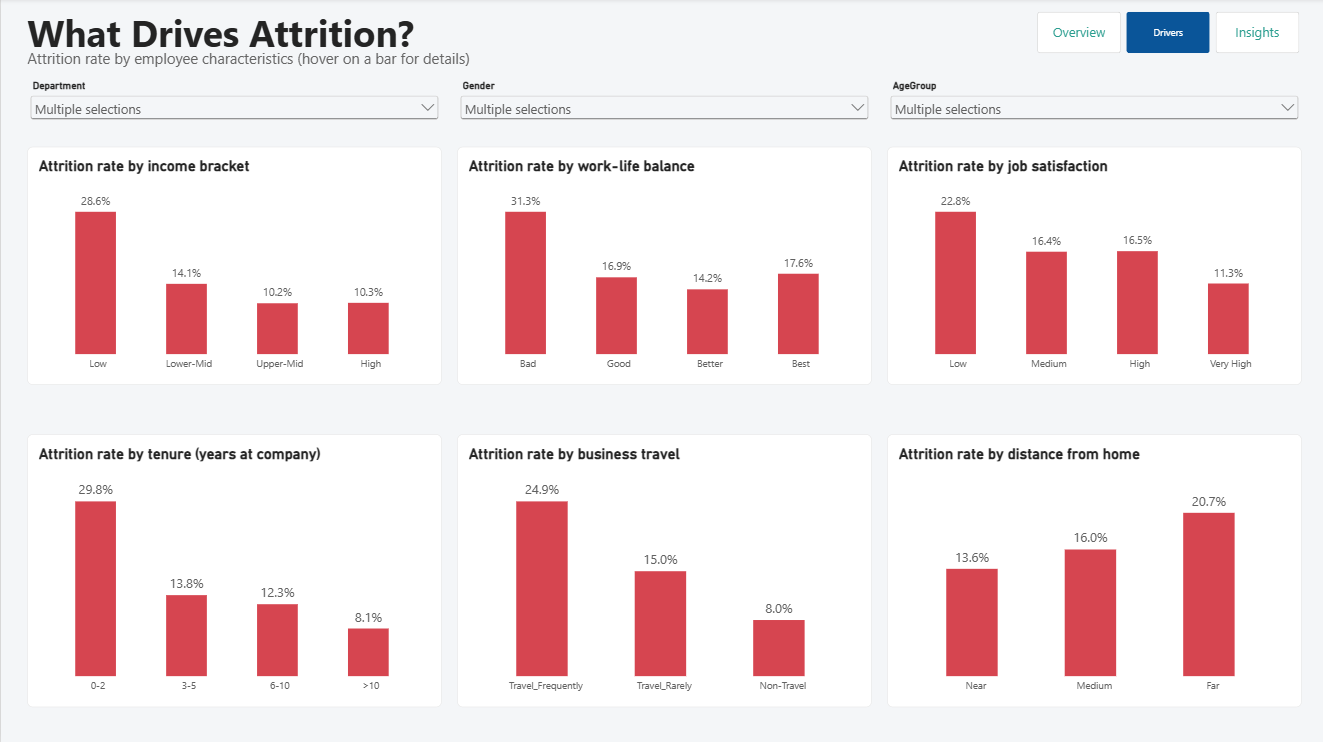

Layout of this report page (visuals, bound fields, positions):
{"tool":"powerbi","page":{"name":"Drivers","canvas":[1920,1080],"ordinal":1},"visuals":[{"type":"textbox","title":"Subtitle","box":[38,72,1200,33],"z":0},{"type":"slicer","title":"Department","fields":{"Values":["HR_Employee.Department"]},"box":[38,117,600,81],"z":0,"group":"g1"},{"type":"group","id":"g1","title":"Slicer","box":[38,117,1845,81],"z":1000},{"type":"slicer","title":"Gender","fields":{"Values":["HR_Employee.Gender"]},"box":[660,117,600,81],"z":1000,"group":"g1"},{"type":"textbox","title":"Title","box":[38,12.7,774.5,76],"z":2000},{"type":"slicer","title":"Age Group","fields":{"Values":["HR_Employee.AgeGroup"]},"box":[1283,117,600,81],"z":2000,"group":"g1"},{"type":"clusteredColumnChart","title":"Attrition rate by income bracket","fields":{"Category":["HR_Employee.IncomeBracket"],"Y":["Measures (2).Attrition Rate"]},"box":[38,216,600,345],"z":3000},{"type":"clusteredColumnChart","title":"Attrition rate by tenure (years at company)","fields":{"Y":["Measures (2).Attrition Rate"],"Category":["HR_Employee.TenureGroup"]},"box":[38,632,600,395],"z":4000},{"type":"clusteredColumnChart","title":"Attrition rate by work-life balance","fields":{"Y":["Measures (2).Attrition Rate"],"Category":["HR_Employee.WorkLifeBalanceLabel"]},"box":[660.6,216,600,345],"z":5000},{"type":"clusteredColumnChart","title":"Attrition rate by job satisfaction","fields":{"Category":["HR_Employee.JobSatisfactionLabel"],"Y":["Measures (2).Attrition Rate"]},"box":[1283,215.3,600,345],"z":6000},{"type":"clusteredColumnChart","title":"Attrition rate by business travel","fields":{"Category":["HR_Employee.BusinessTravel"],"Y":["Measures (2).Attrition Rate"]},"box":[660,632,600,395],"z":7000},{"type":"clusteredColumnChart","title":"Attrition rate by distance from home","fields":{"Category":["HR_Employee.DistanceGroup"],"Y":["Measures (2).Attrition Rate"]},"box":[1283.1,632,600,395],"z":8000},{"type":"pageNavigator","box":[1500,20,380,60],"z":8001}]}

Visuals, with their boxes in screenshot pixels (x1, y1, x2, y2), scaled from the page's 1920x1080 canvas onto the 1323x742 screenshot:
"Subtitle" textbox: {"x1": 26, "y1": 49, "x2": 853, "y2": 72}
"Department" slicer: {"x1": 26, "y1": 80, "x2": 440, "y2": 136}
"Slicer" group: {"x1": 26, "y1": 80, "x2": 1298, "y2": 136}
"Gender" slicer: {"x1": 455, "y1": 80, "x2": 868, "y2": 136}
"Title" textbox: {"x1": 26, "y1": 9, "x2": 560, "y2": 61}
"Age Group" slicer: {"x1": 884, "y1": 80, "x2": 1298, "y2": 136}
"Attrition rate by income bracket" clusteredColumnChart: {"x1": 26, "y1": 148, "x2": 440, "y2": 385}
"Attrition rate by tenure (years at company)" clusteredColumnChart: {"x1": 26, "y1": 434, "x2": 440, "y2": 706}
"Attrition rate by work-life balance" clusteredColumnChart: {"x1": 455, "y1": 148, "x2": 869, "y2": 385}
"Attrition rate by job satisfaction" clusteredColumnChart: {"x1": 884, "y1": 148, "x2": 1298, "y2": 385}
"Attrition rate by business travel" clusteredColumnChart: {"x1": 455, "y1": 434, "x2": 868, "y2": 706}
"Attrition rate by distance from home" clusteredColumnChart: {"x1": 884, "y1": 434, "x2": 1298, "y2": 706}
pageNavigator: {"x1": 1034, "y1": 14, "x2": 1295, "y2": 55}
